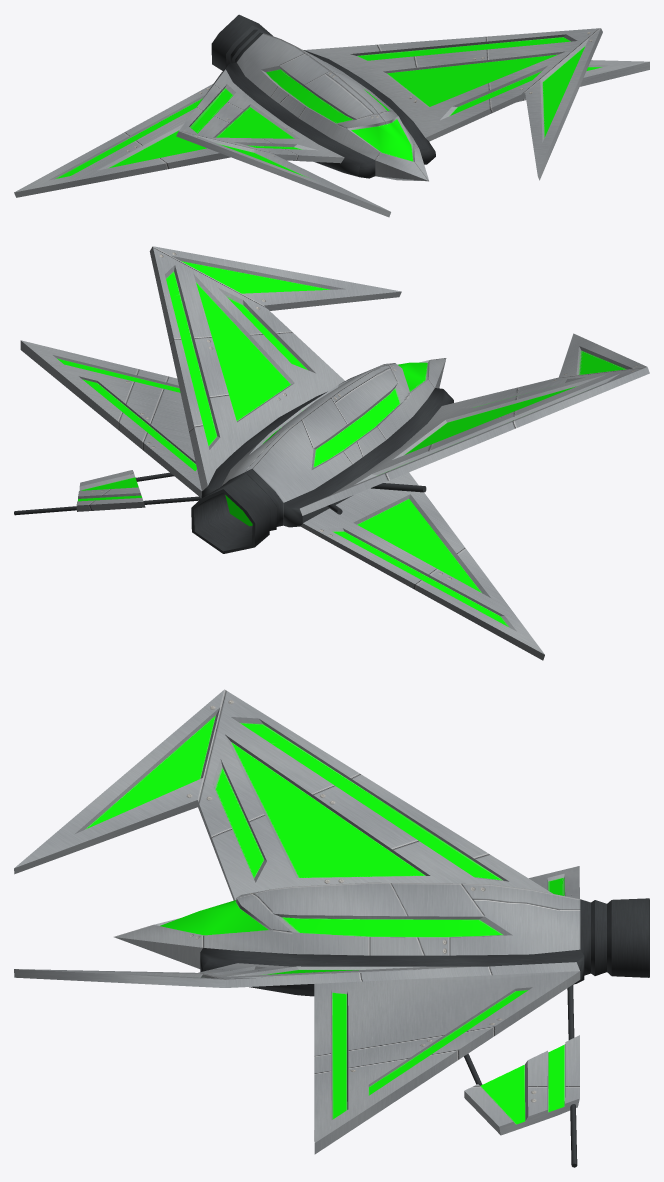
Rendered from X-Jet-2_Break2.fbx.
The picture shows the model from 3 angles, top to bottom: view 1: azimuth 30°, elevation 25°; view 2: azimuth 150°, elevation 25°; view 3: azimuth 270°, elevation 25°; orthographic projection. The views are drawn at different scales.
Visible parts, largest first — view 1: X_Jet_4; view 2: X_Jet_4; view 3: X_Jet_4, pCylinder3.
Boxes of the visible parts, bbox=[...] form: X_Jet_4: bbox=[14, 14, 649, 217]; X_Jet_4: bbox=[20, 246, 649, 660]; X_Jet_4: bbox=[14, 689, 649, 1154]; pCylinder3: bbox=[567, 985, 577, 1167].
Size of the model in its own units: 22.17 by 5.86 by 16.
